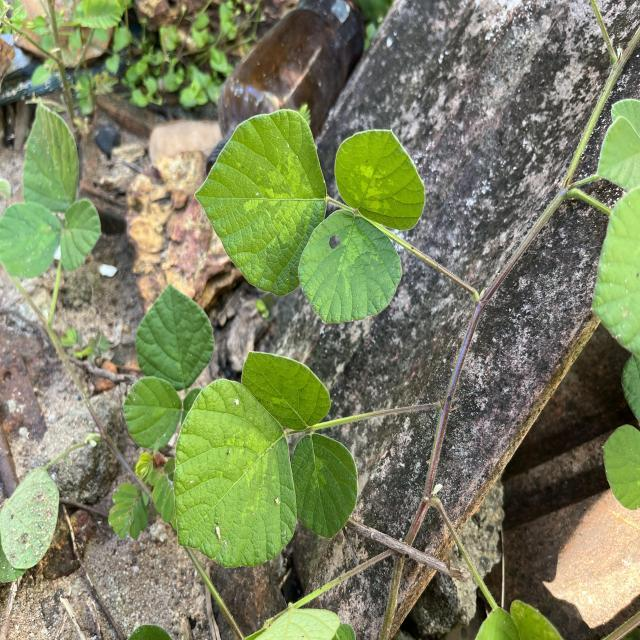Pseudarthria viscida: (192, 105, 428, 326), (171, 347, 361, 572)
